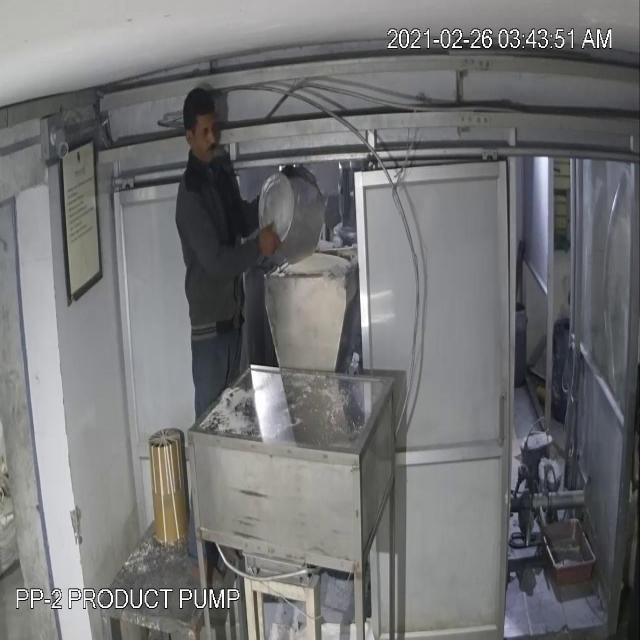no-helmet: (183, 84, 227, 166)
